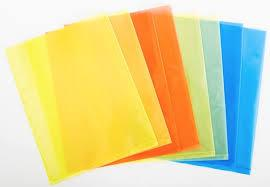Zip plastic bag: (5, 12, 270, 180)
